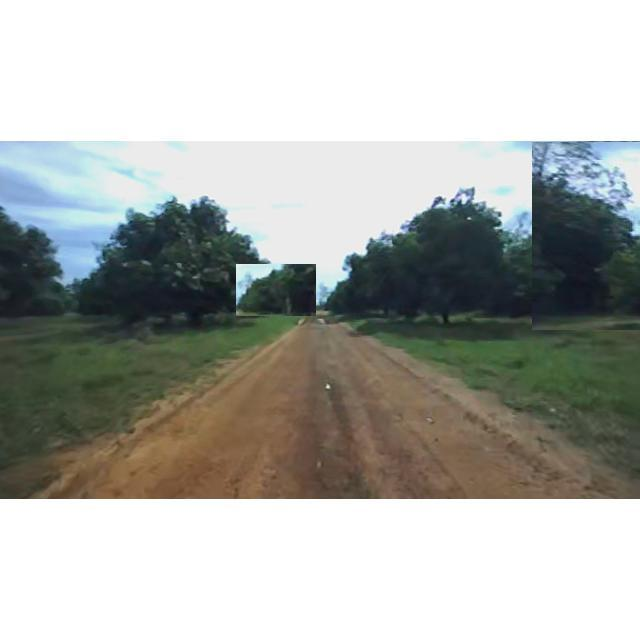direk: (343, 180, 541, 332), (80, 188, 270, 332), (532, 142, 640, 330), (0, 197, 68, 327), (329, 232, 411, 326), (236, 264, 316, 316)
